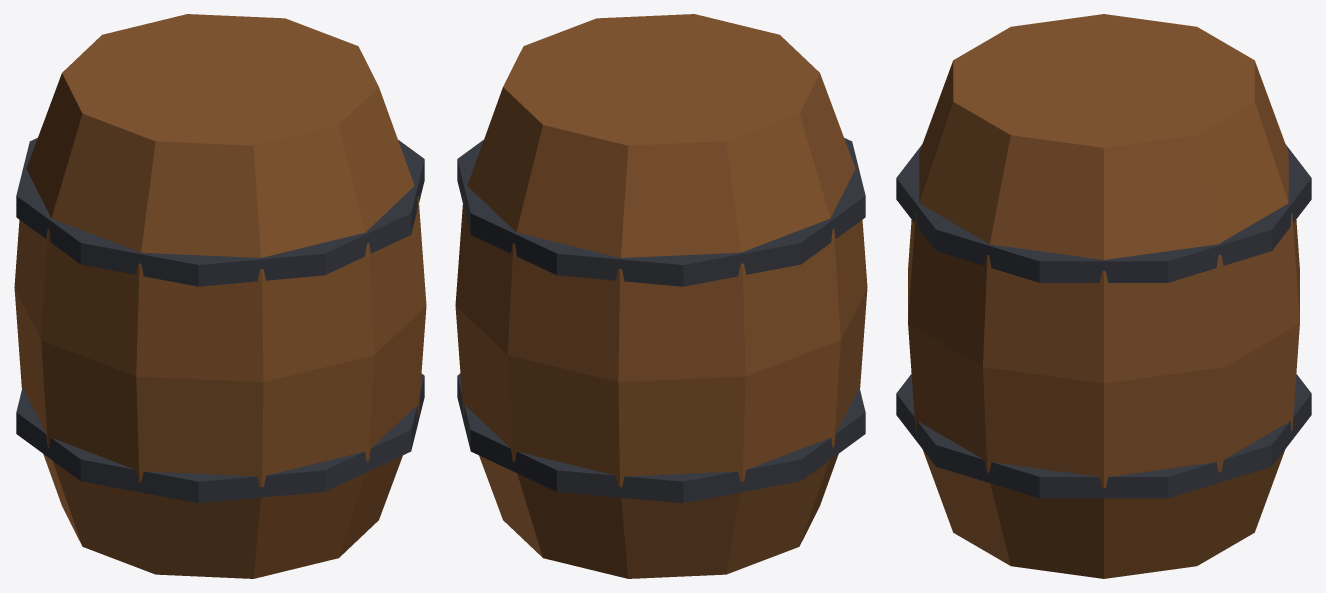
File: barrel.glb
3 renders of one model, left to right at view 1: azimuth 30°, elevation 25°; view 2: azimuth 150°, elevation 25°; view 3: azimuth 270°, elevation 25°, orthographic.
Visible parts, largest first — view 1: barrel; view 2: barrel; view 3: barrel.
Boxes of the visible parts, box(x1,y1,x2,y2) form: barrel: box(14, 14, 426, 578); barrel: box(455, 14, 867, 578); barrel: box(896, 14, 1311, 578).
Size of the model in its own units: 0.52 by 0.6 by 0.524.
